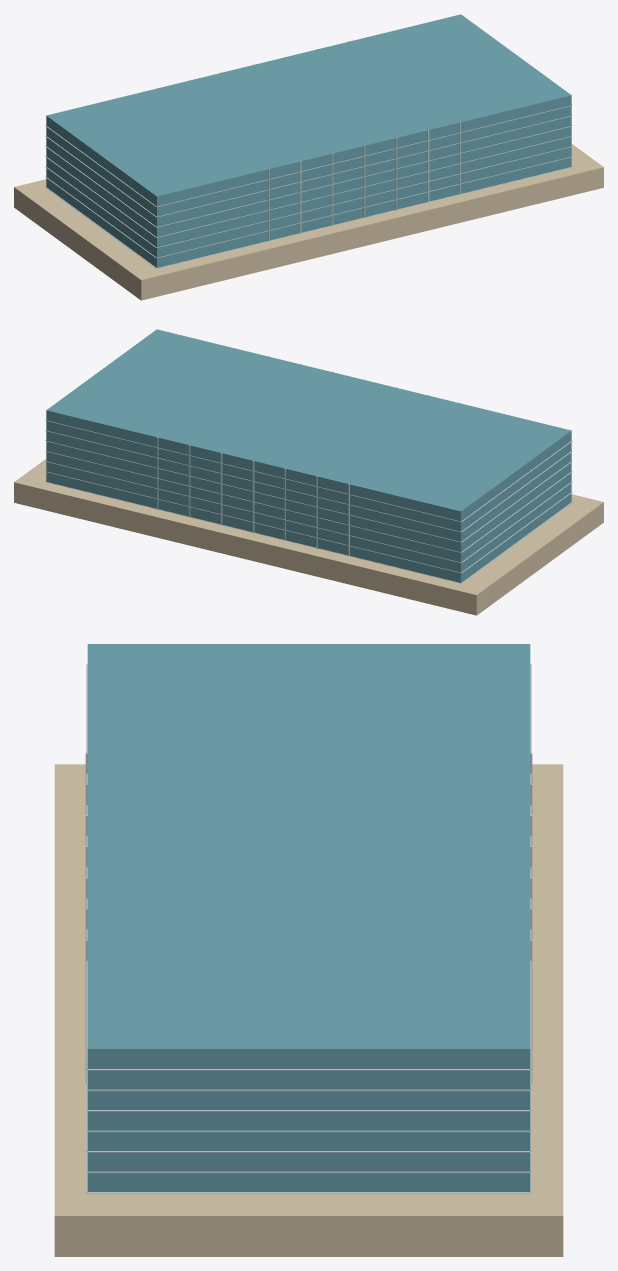
Rendered from super-brand-mall.glb.
3 renders of one model, top to bottom at view 1: azimuth 30°, elevation 25°; view 2: azimuth 150°, elevation 25°; view 3: azimuth 270°, elevation 25°, orthographic. The views are drawn at different scales.
Visible parts, largest first — view 1: super-brand-mall; view 2: super-brand-mall; view 3: super-brand-mall.
Part boxes in pixels (x1,y1,x2,y2): super-brand-mall: (14, 14, 603, 300); super-brand-mall: (14, 329, 603, 615); super-brand-mall: (54, 644, 563, 1256).
Bounding box in the file's own units: 236 × 45 × 113.
